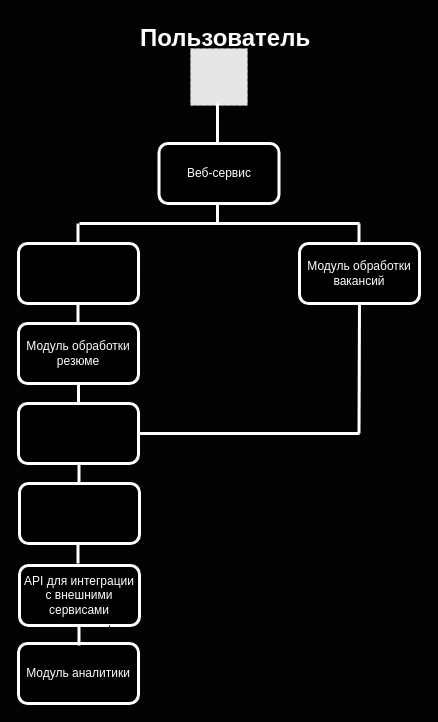
This 438x722 diagram has some shape labels left out. Grey dashed boxes stand in for pictures. Here are the shapes that lost their labels. From the top down, the centre of each, then its label:
point 78,273: Модуль безопасности (аутентификация)
point 78,433: Центр мониторинга безопасности
point 79,513: База данных
